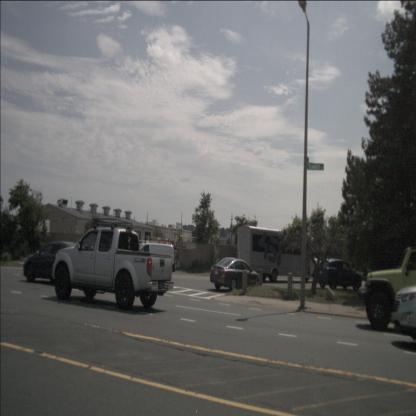vehicle-bus-rigid: (237, 225, 312, 283)
vehicle-car: (358, 247, 416, 330), (23, 241, 89, 286), (210, 257, 260, 292), (132, 242, 175, 275), (318, 258, 362, 290)
vehicle-truck: (52, 226, 174, 309)
